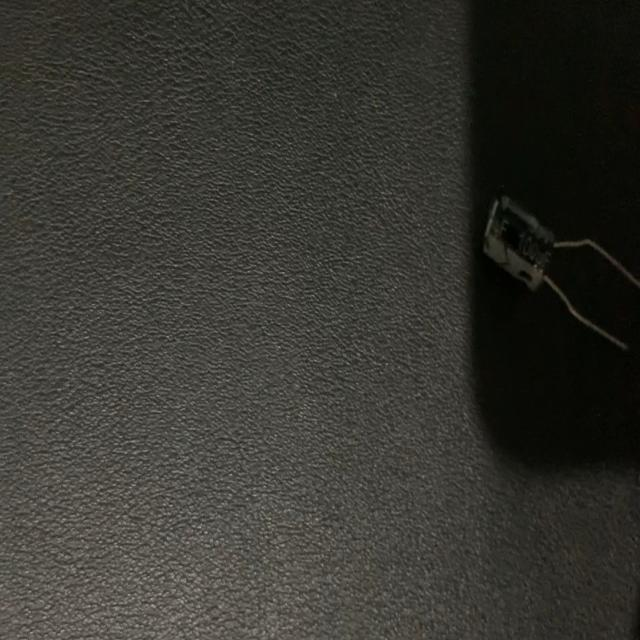capacitor: (485, 176, 640, 358)
